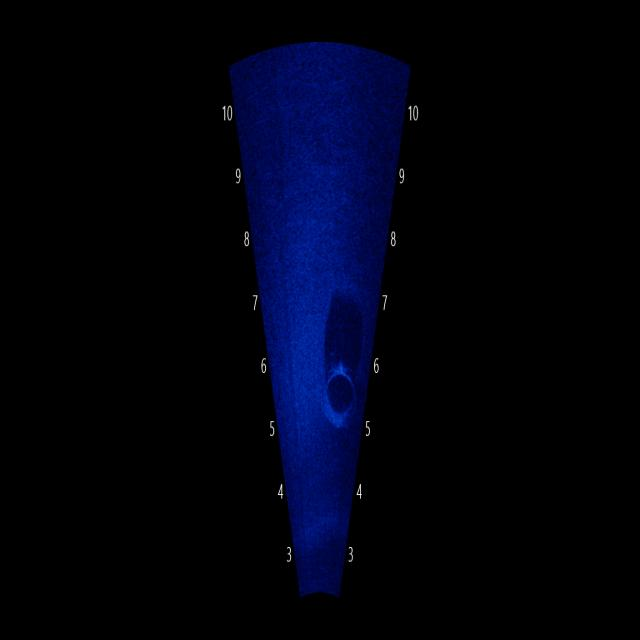circle: (319, 351, 362, 437)
